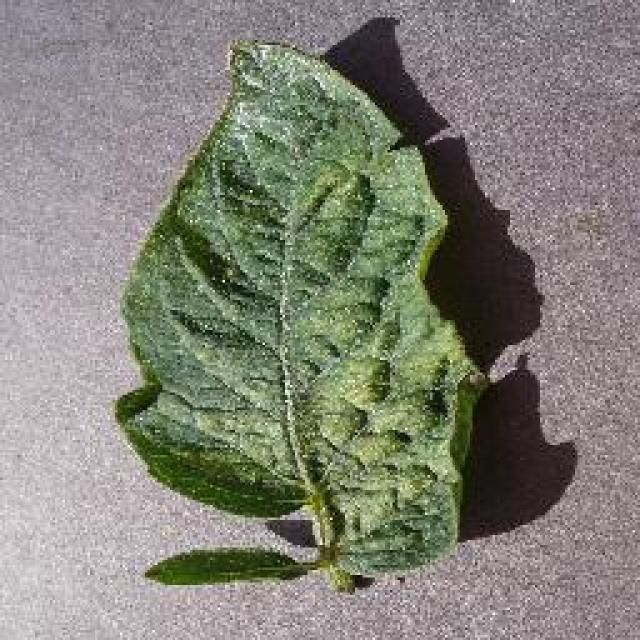Tomato mosaic virus leaf: (110, 38, 488, 590)
